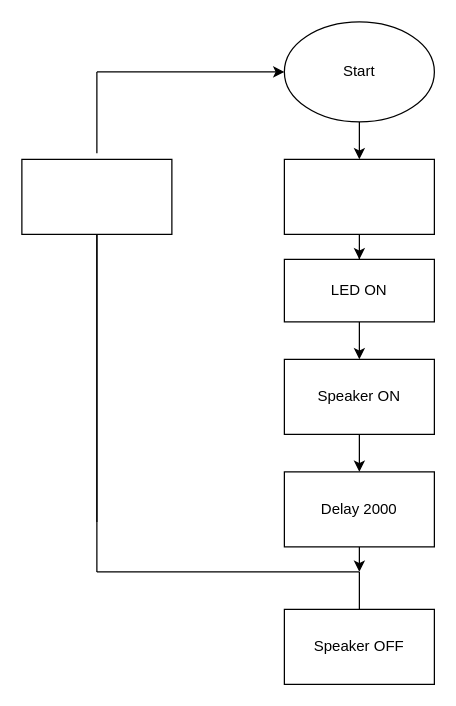
The diagram is 456 pixels wide and 706 high, and some of its shapes have lost their labels. Each missing label, with the centre of its shape:
"Battery ON" belongs at (358,196).
"Repeat" belongs at (96,196).
